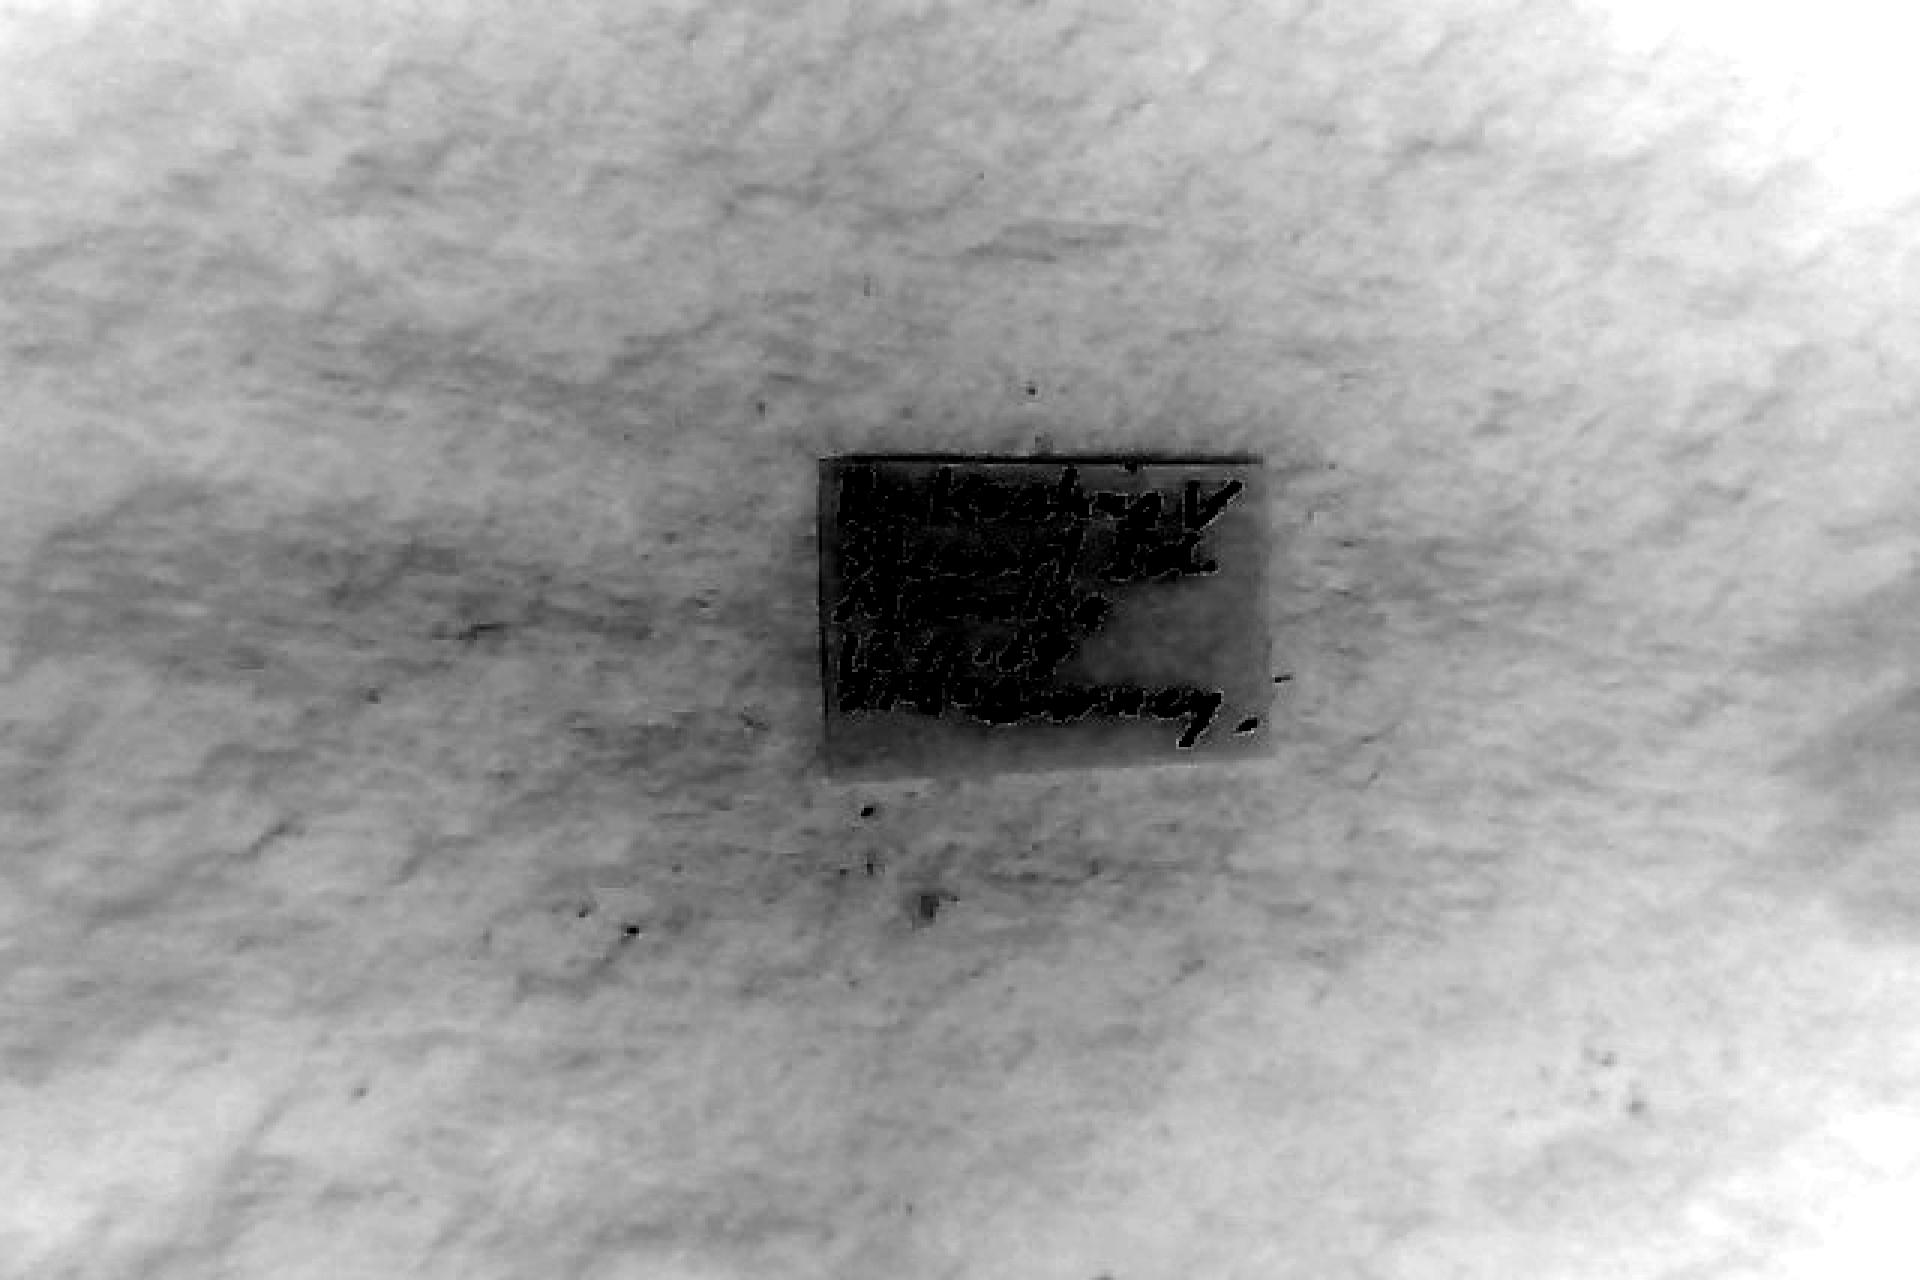hand_label: (823, 460, 1271, 780)
